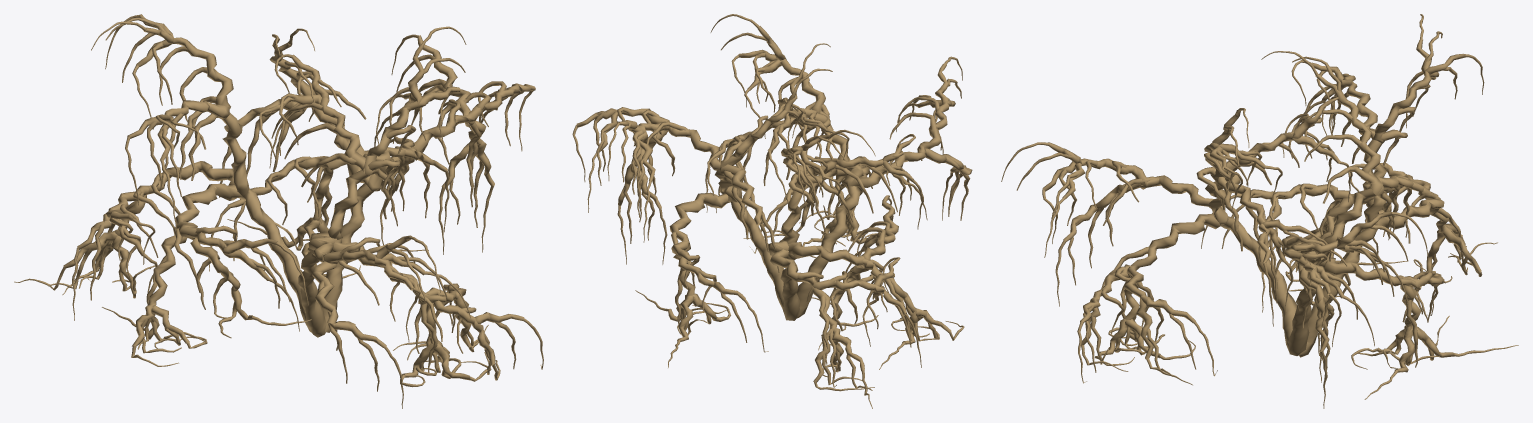
File: DeadTree_01.fbx
The picture shows the model from 3 angles, left to right: view 1: azimuth 30°, elevation 25°; view 2: azimuth 150°, elevation 25°; view 3: azimuth 270°, elevation 25°; orthographic projection. The views are drawn at different scales.
Visible parts, largest first — view 1: treeSpiralHeavy1Main; view 2: treeSpiralHeavy1Main; view 3: treeSpiralHeavy1Main.
Boxes of the visible parts, bbox=[...] form: treeSpiralHeavy1Main: bbox=[14, 14, 543, 408]; treeSpiralHeavy1Main: bbox=[572, 14, 972, 408]; treeSpiralHeavy1Main: bbox=[1001, 14, 1518, 408].
Size of the model in its own units: 2.71 by 1.89 by 3.01.
